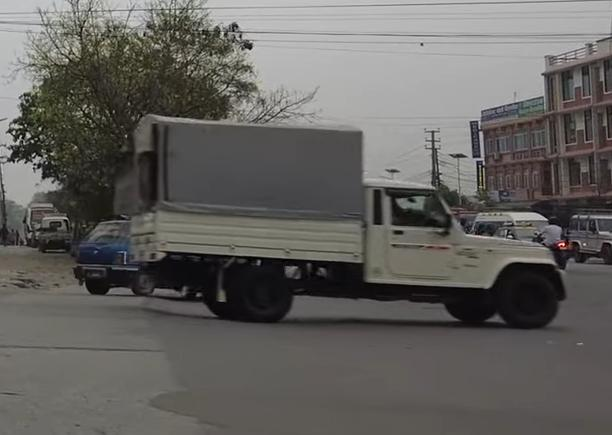SUV: (569, 204, 612, 273)
bus: (19, 199, 75, 251)
car: (65, 216, 160, 303)
transport_vehicle: (129, 109, 574, 344)
